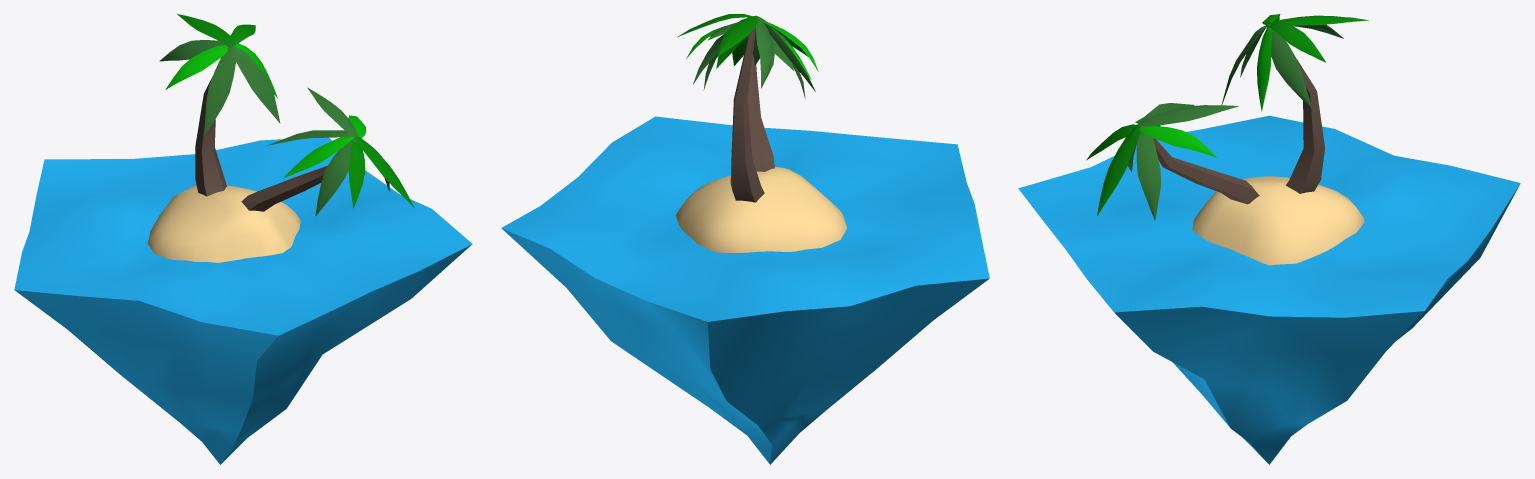
File: low_poly_island.glb
3 views of the same model, side by side, from view 1: azimuth 30°, elevation 25°; view 2: azimuth 150°, elevation 25°; view 3: azimuth 270°, elevation 25° (orthographic). The views are drawn at different scales.
Parts seen in each view (by area): view 1: uploads_files_737265_1; view 2: uploads_files_737265_1; view 3: uploads_files_737265_1.
Boxes of the visible parts, x1,y1,x2,y2 form: uploads_files_737265_1: [14, 14, 472, 464]; uploads_files_737265_1: [501, 14, 989, 464]; uploads_files_737265_1: [1018, 14, 1520, 464].
Bounding box in the file's own units: 13.68 × 14.3 × 14.39.
